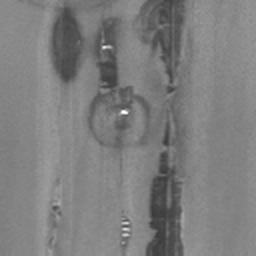Slag inclusion: (140, 0, 188, 256), (88, 17, 152, 178), (52, 4, 86, 86), (118, 215, 134, 252), (47, 206, 67, 230)
